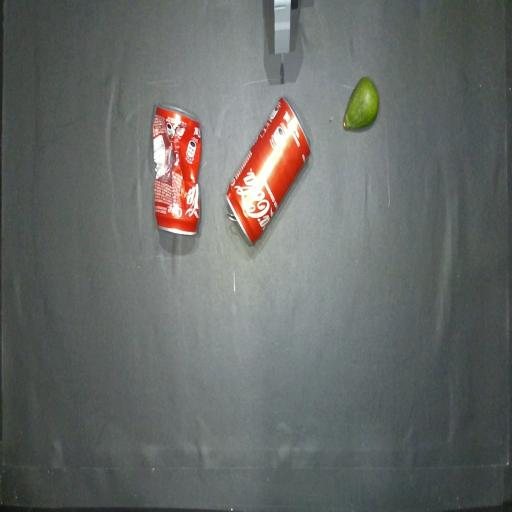higo: (343, 77, 378, 129)
lata: (226, 97, 310, 244)
lata_defectuoso: (153, 105, 202, 235)
